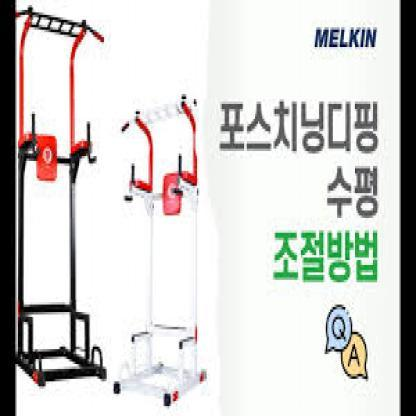chinning dipping: (16, 5, 108, 388), (113, 91, 207, 406)
